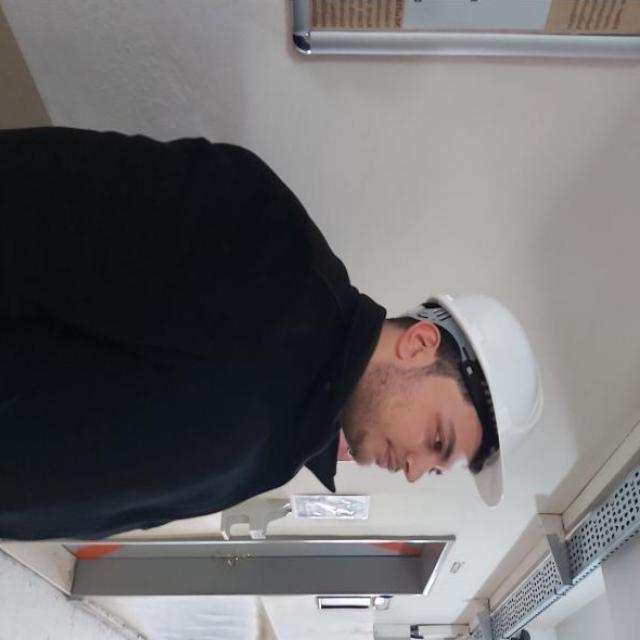helmet: (406, 292, 546, 506)
